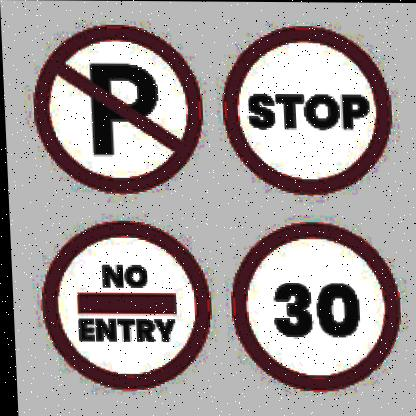No parking: (22, 20, 207, 192)
